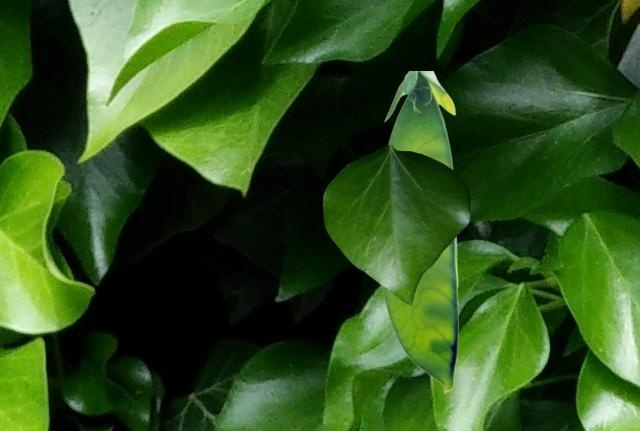pea: (382, 71, 457, 392)
